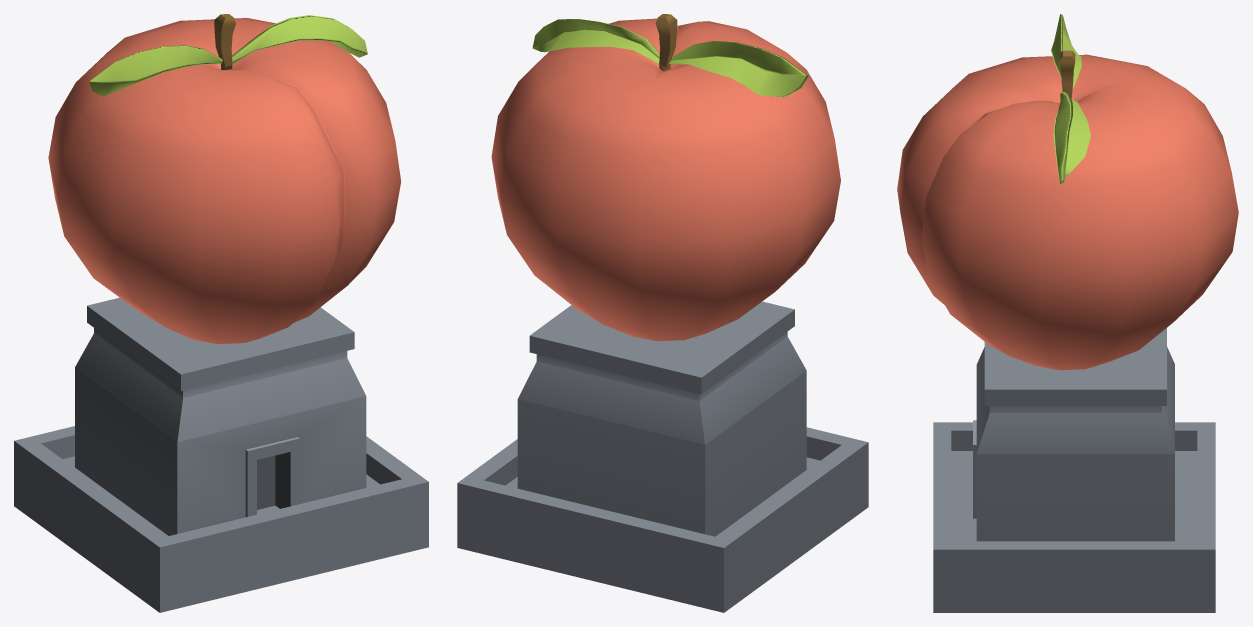
The model's file is The_Peach.fbx.
3 renders of one model, left to right at view 1: azimuth 30°, elevation 25°; view 2: azimuth 150°, elevation 25°; view 3: azimuth 270°, elevation 25°, orthographic. The views are drawn at different scales.
Visible parts, largest first — view 1: The_Peach; view 2: The_Peach; view 3: The_Peach.
Part boxes in pixels (left/top/right/bottom): The_Peach: left=14, top=14, right=428, bottom=612; The_Peach: left=457, top=14, right=868, bottom=612; The_Peach: left=897, top=14, right=1238, bottom=612.
Size of the model in its own units: 413 by 664 by 413.
